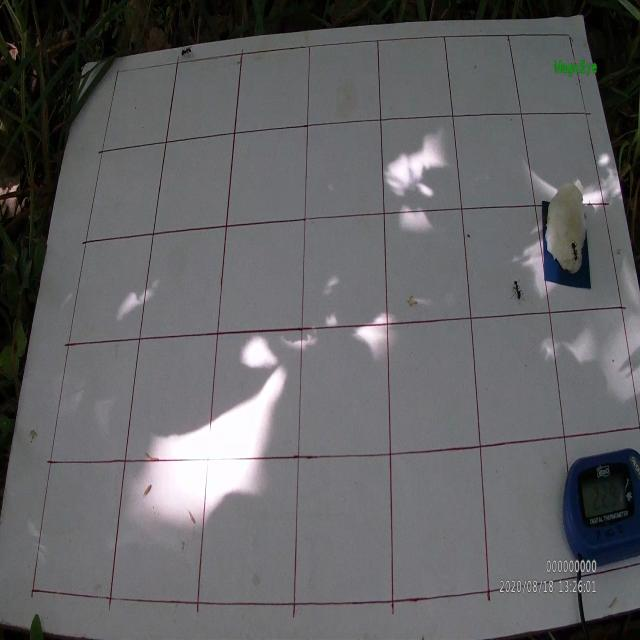Ant: (510, 278, 525, 306), (568, 237, 579, 264), (180, 46, 194, 61), (543, 209, 550, 231)
